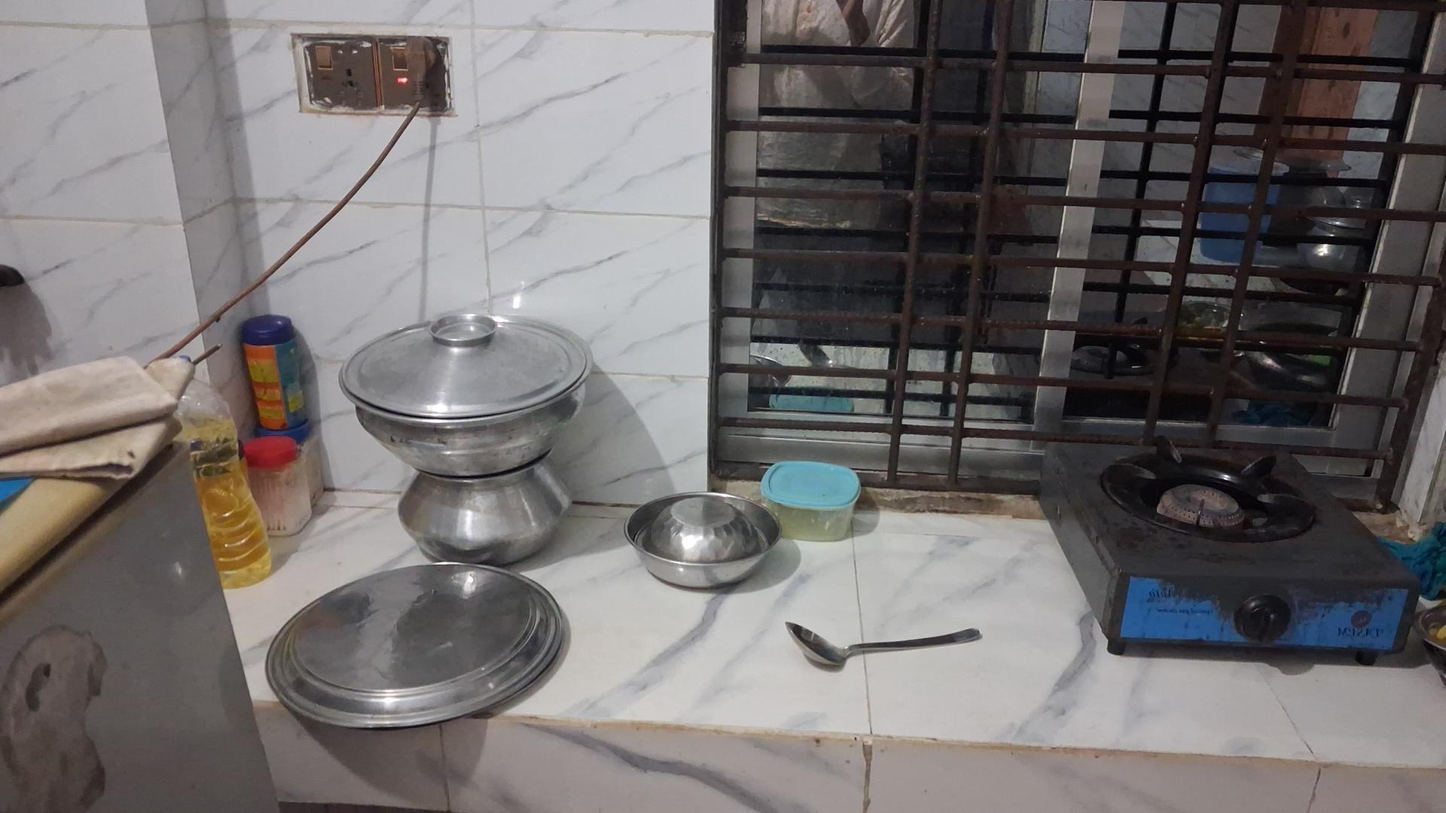Bottle: (172, 364, 276, 589)
Bowl: (627, 494, 781, 589)
Jar: (237, 318, 318, 435), (760, 457, 862, 544), (247, 441, 316, 531)
Plate: (270, 558, 566, 742)
Pot: (339, 308, 589, 473), (391, 467, 570, 569)
Spoon: (788, 609, 991, 669)
